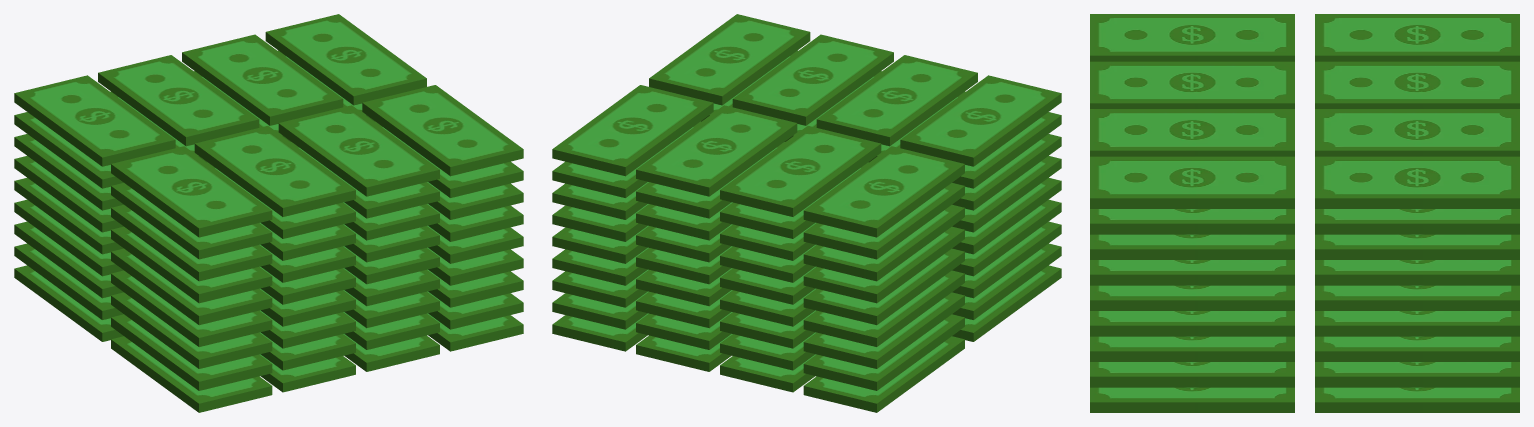
File: 5_MoneyStack.fbx
The picture shows the model from 3 angles, left to right: view 1: azimuth 30°, elevation 25°; view 2: azimuth 150°, elevation 25°; view 3: azimuth 270°, elevation 25°; orthographic projection. The views are drawn at different scales.
Visible parts, largest first — view 1: Cube.022, Cube.024, Cube.025, Cube.027, Cube.021, Cube.023, Cube.028, Cube.026; view 2: Cube.024, Cube.022, Cube.026, Cube.028, Cube.023, Cube.021, Cube.027, Cube.025; view 3: Cube.027, Cube.028, Cube.021, Cube.022, Cube.023, Cube.024, Cube.025, Cube.026.
Boxes of the visible parts, bbox=[...] form: Cube.022: bbox=[111, 146, 272, 412]; Cube.024: bbox=[14, 75, 175, 341]; Cube.025: bbox=[278, 105, 439, 371]; Cube.027: bbox=[362, 85, 523, 351]; Cube.021: bbox=[194, 126, 355, 392]; Cube.023: bbox=[98, 55, 259, 162]; Cube.028: bbox=[265, 14, 426, 121]; Cube.026: bbox=[182, 34, 343, 141]; Cube.024: bbox=[803, 146, 964, 412]; Cube.022: bbox=[900, 75, 1061, 341]; Cube.026: bbox=[636, 105, 797, 371]; Cube.028: bbox=[552, 85, 713, 351]; Cube.023: bbox=[720, 126, 881, 392]; Cube.021: bbox=[816, 55, 977, 162]; Cube.027: bbox=[649, 14, 810, 121]; Cube.025: bbox=[732, 34, 893, 141]; Cube.027: bbox=[1090, 156, 1294, 412]; Cube.028: bbox=[1315, 156, 1519, 412]; Cube.021: bbox=[1090, 61, 1294, 108]; Cube.022: bbox=[1090, 14, 1294, 61]; Cube.023: bbox=[1315, 61, 1519, 108]; Cube.024: bbox=[1315, 14, 1519, 61]; Cube.025: bbox=[1090, 109, 1294, 156]; Cube.026: bbox=[1315, 109, 1519, 156].
Size of the model in its own units: 153 by 84.2 by 155.
